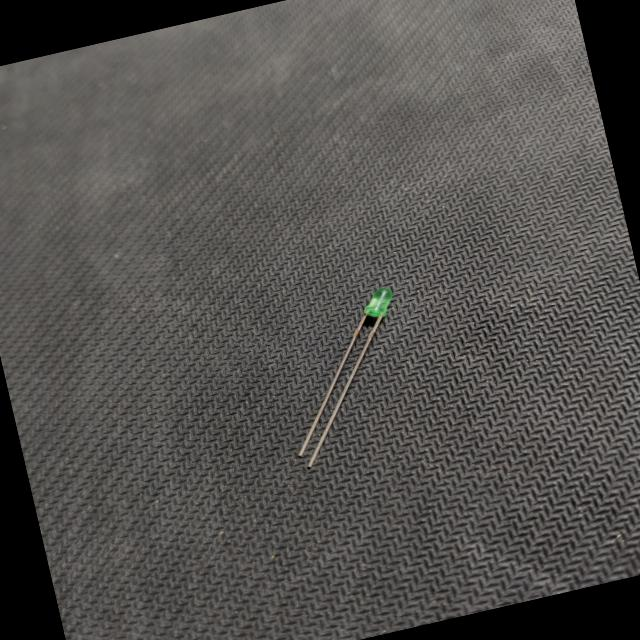led: (252, 276, 438, 482)
